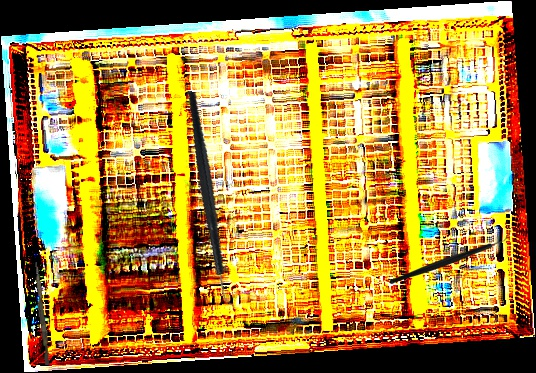Chopper: (147, 90, 279, 309), (390, 230, 511, 285)
Pusher: (30, 262, 53, 365)
